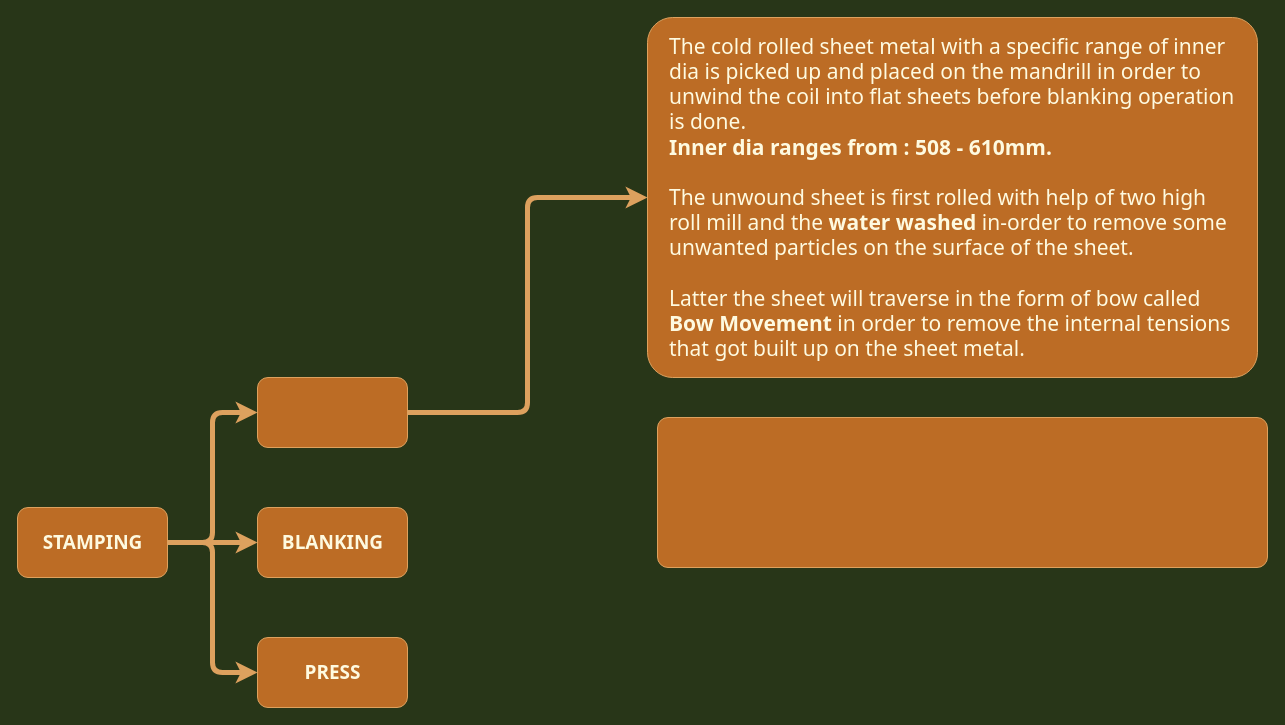
Image size: 1285x725. Some labels were removed from this diagram. Each missing label, with the centre of its shape:
"The" goes at point 962,492.
"UNWINDING" goes at point 332,412.
